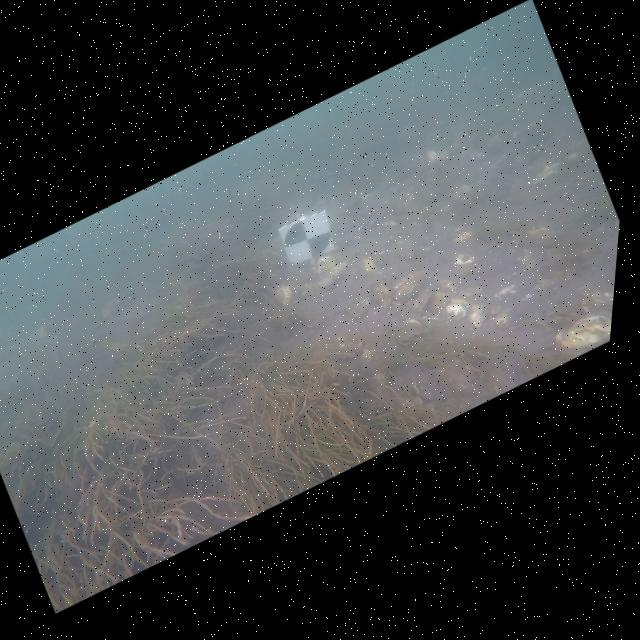Oyster-Closed: (556, 315, 612, 349), (432, 354, 477, 395), (392, 271, 427, 302), (313, 255, 347, 280), (334, 337, 364, 359), (373, 282, 392, 308), (349, 298, 370, 317), (275, 285, 293, 306)
Oyster-Indeterminate: (407, 292, 432, 312), (445, 298, 469, 318), (361, 255, 380, 275), (469, 305, 486, 327), (494, 312, 509, 328), (456, 254, 474, 265)
Oyster-Open: (397, 316, 432, 348), (316, 260, 347, 290), (411, 375, 435, 404), (377, 254, 387, 267)
